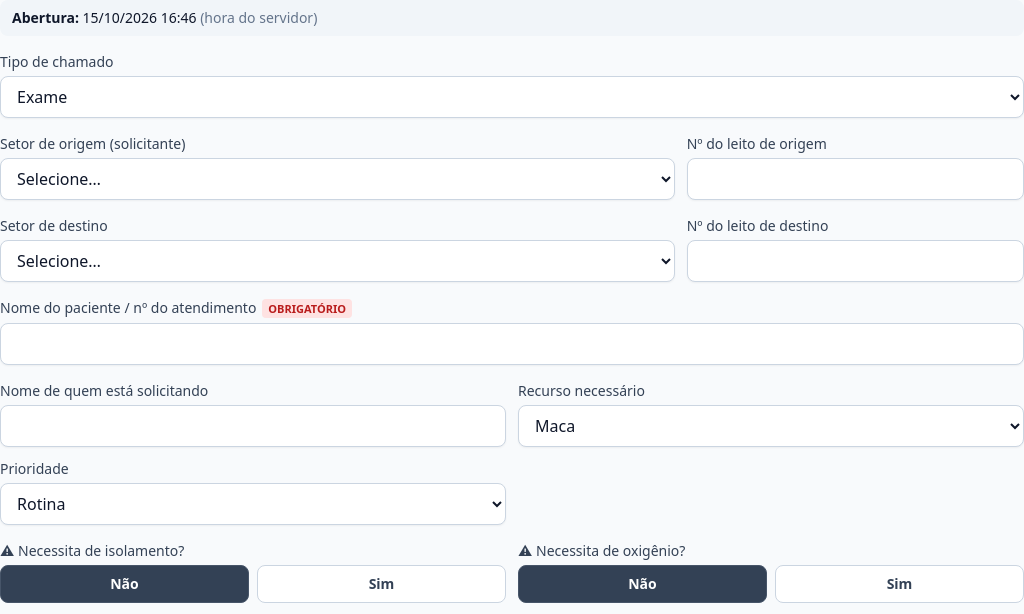
Scenario: NovoChamadoForm › Alta esconde o destino; Óbito trava no Necrotério
The image size is (1024, 614).
Select "Alta" in the dropdown labelled "Tipo de chamado". click: (512, 97)
box: [0, 76, 1023, 118]
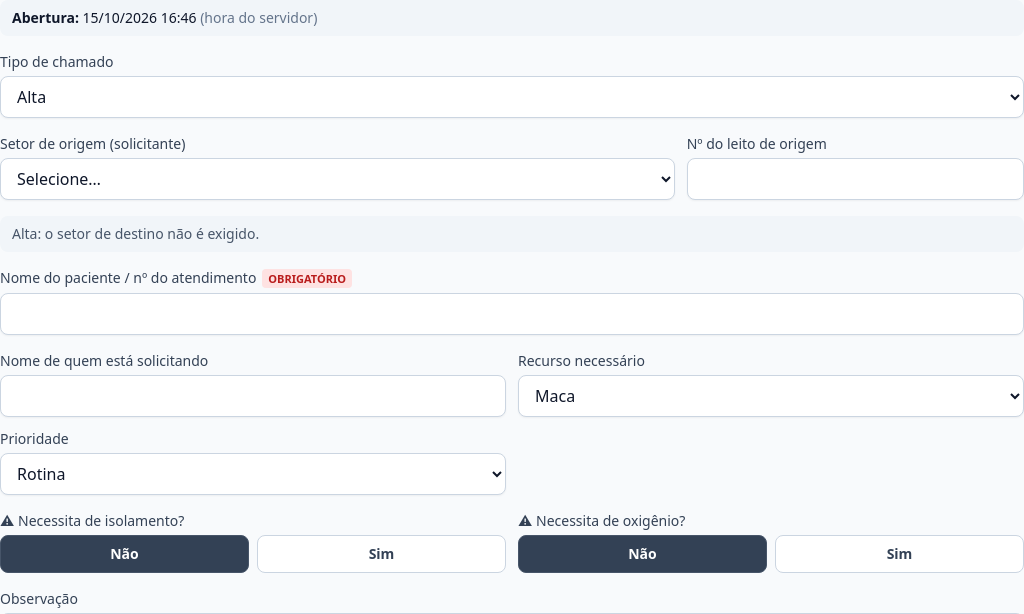
Check: the text "Alta: o setor de destino não é exigido." is shown, box [0, 216, 1023, 252]
Select "Óbito" in the dropdown labelled "Tipo de chamado". click: (512, 97)
box: [0, 76, 1023, 118]
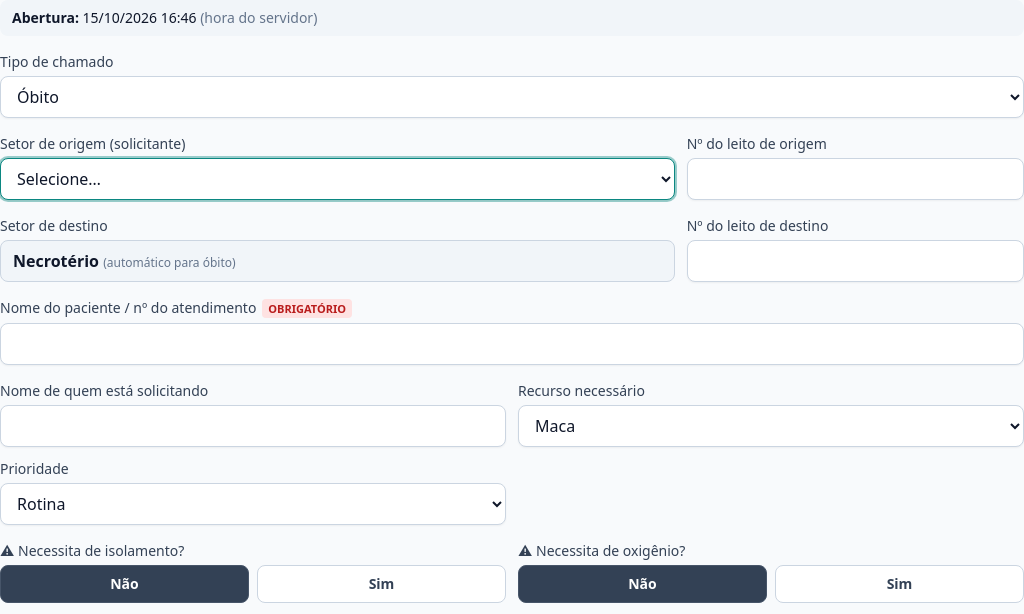
Check: the text "(automático para óbito)" is shown, box [103, 254, 236, 271]
